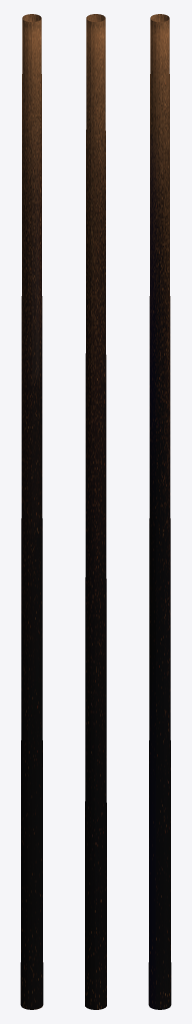
File: lamp_base_bar.glb
The picture shows the model from 3 angles, left to right: view 1: azimuth 90°, elevation 25°; view 2: azimuth 150°, elevation 25°; view 3: azimuth 270°, elevation 25°; orthographic projection.
Parts seen in each view (by area): view 1: lamp_base_bar; view 2: lamp_base_bar; view 3: lamp_base_bar.
Boxes of the visible parts, bbox=[...] form: lamp_base_bar: bbox=[20, 14, 43, 1009]; lamp_base_bar: bbox=[85, 14, 106, 1009]; lamp_base_bar: bbox=[148, 14, 171, 1009].
Bounding box in the file's own units: 0.2212 × 10.72 × 0.2212.
1 material, 1 textured.
